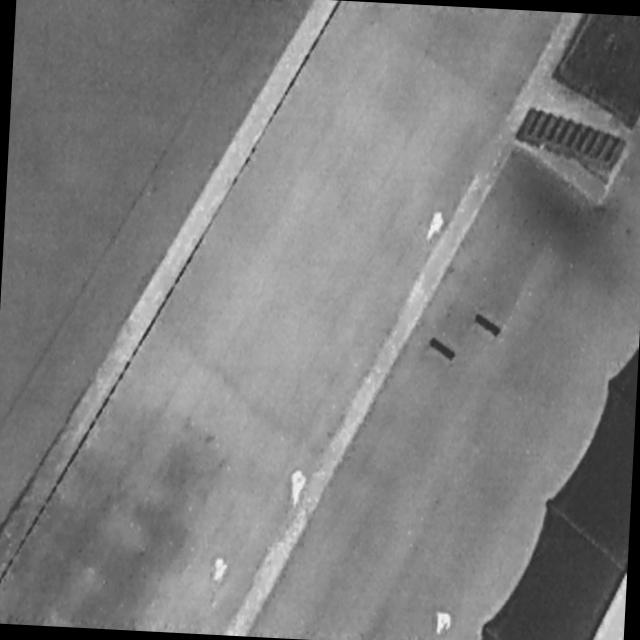person: (423, 207, 450, 249), (289, 470, 308, 511), (435, 610, 453, 638), (213, 557, 229, 582)
